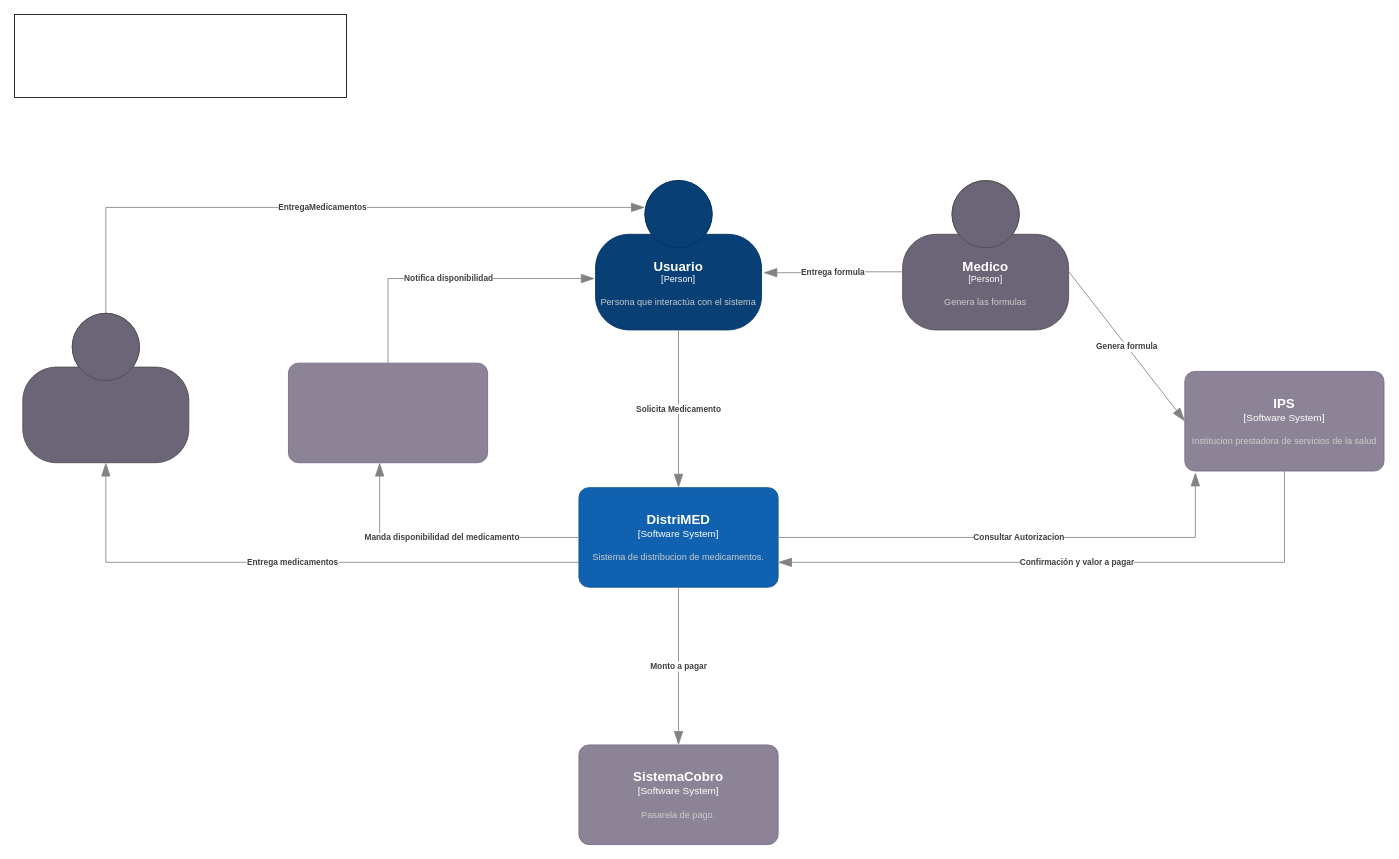
This 1399x859 diagram has some shape labels left out. Each missing label, with the box of its shape:
CONTEXTO: (14, 14, 347, 98)
Domiciliario [Person] Entrega el medicamento a domicilio: (22, 312, 189, 463)
Sistema Notificador [Software System] Sistema que notifica al usuario: (288, 362, 488, 463)
